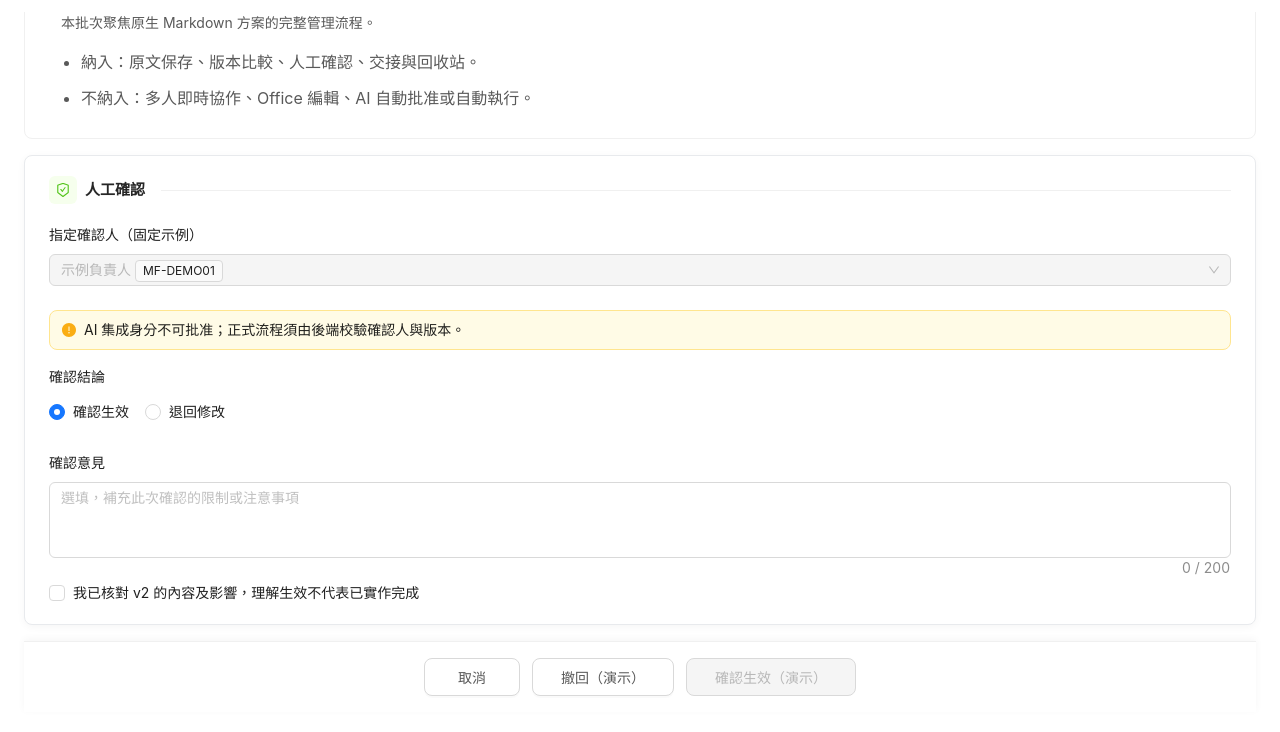
Test: 文档中心第一阶段隔离预览 › 退回必须填写原因，不能无说明驳回
(page scrolled)
Click the radio button labelled "退回修改": (189, 412) [145,401,233,423]
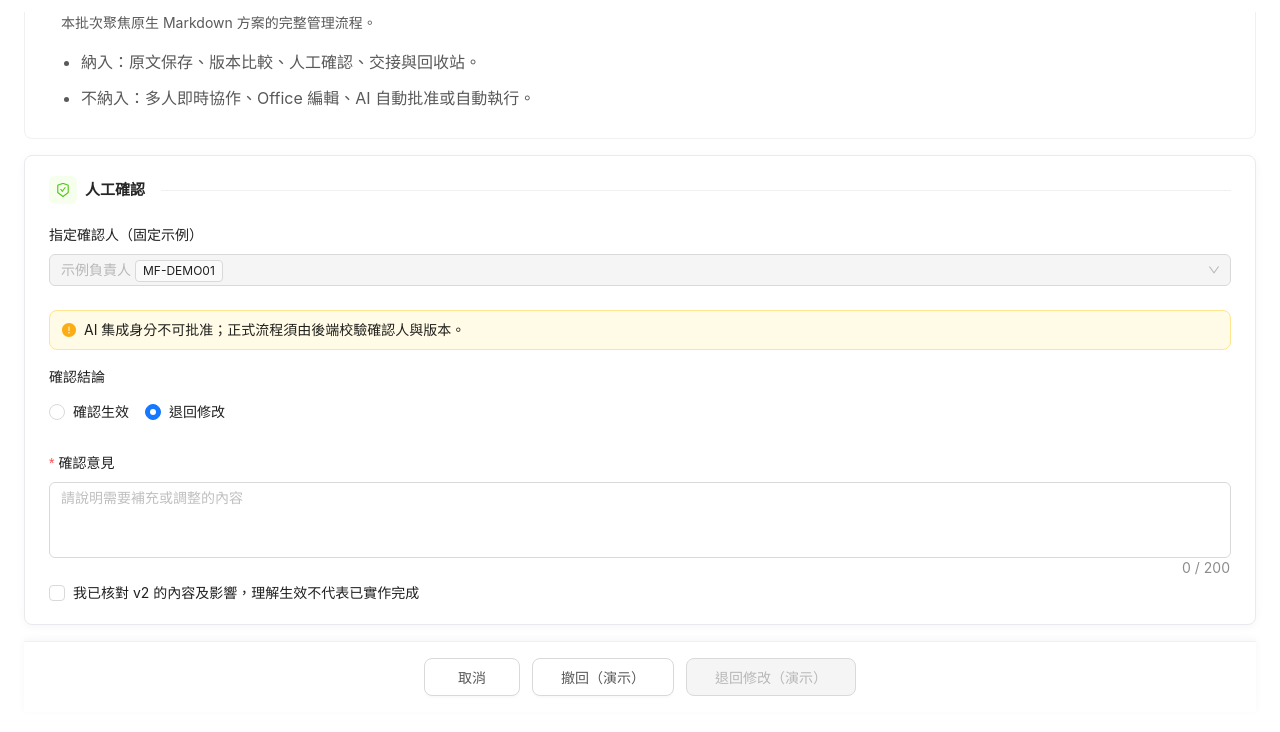
Click the checkbox labelled "我已核對 v2 的內容及影響，理解生效不代表已實作完成": (238, 593) [49,582,427,604]
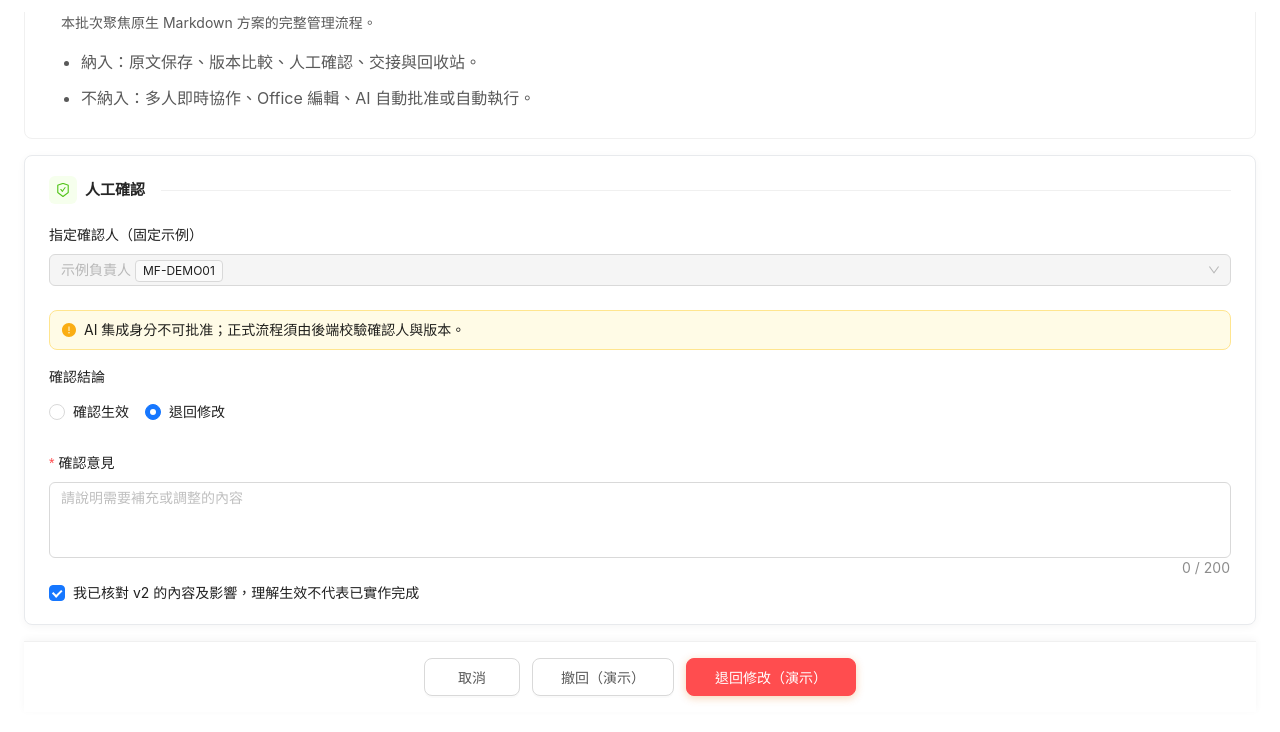
Click the button "退回修改（演示）": (771, 677) [686,658,856,696]
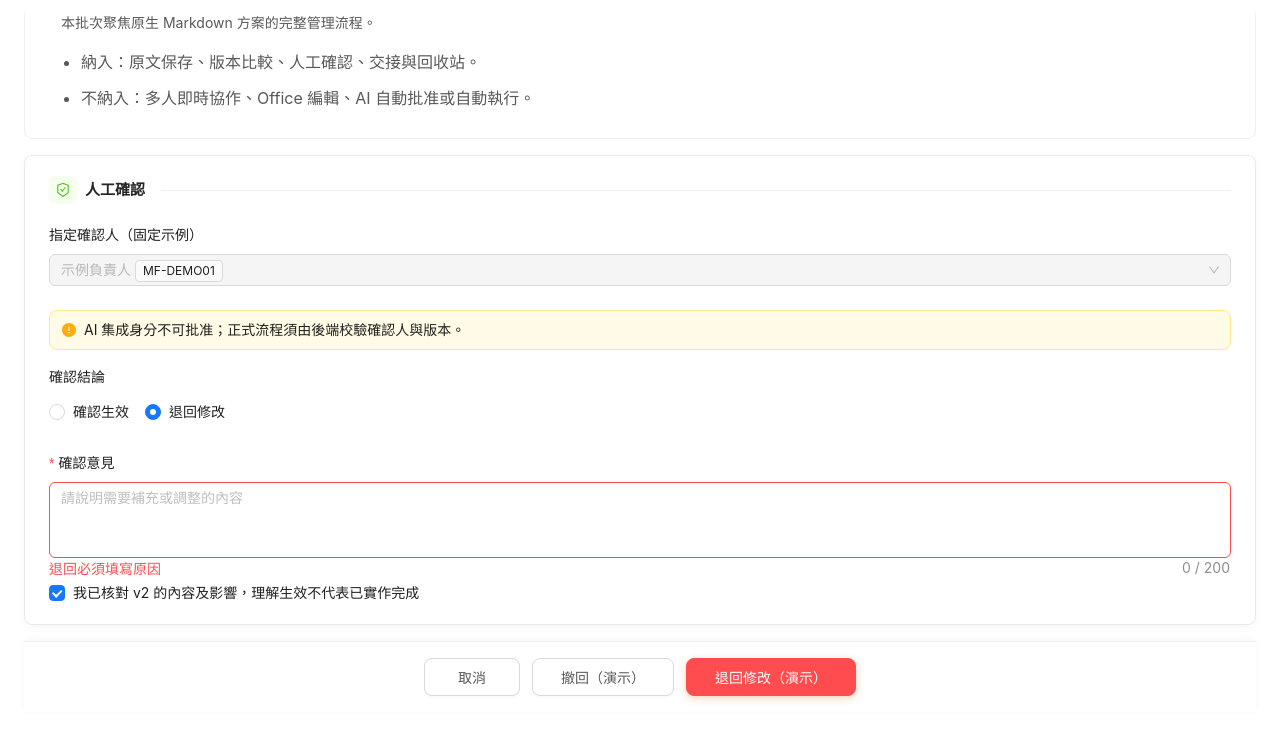
Result: the text "退回必須填寫原因" is shown at [49,560,161,577]
